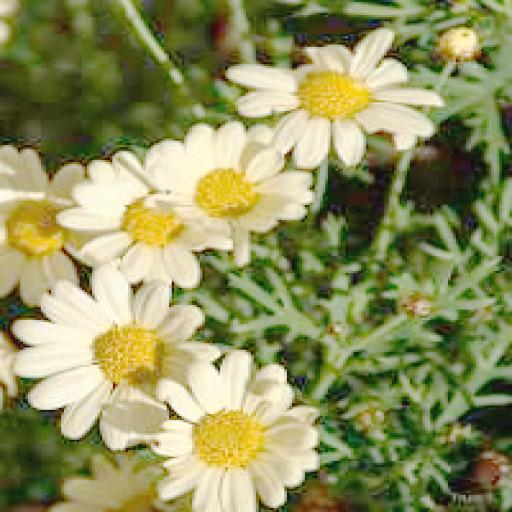daisy: (20, 280, 200, 440), (148, 360, 314, 512), (248, 36, 422, 156), (149, 132, 307, 233), (69, 168, 207, 280)
